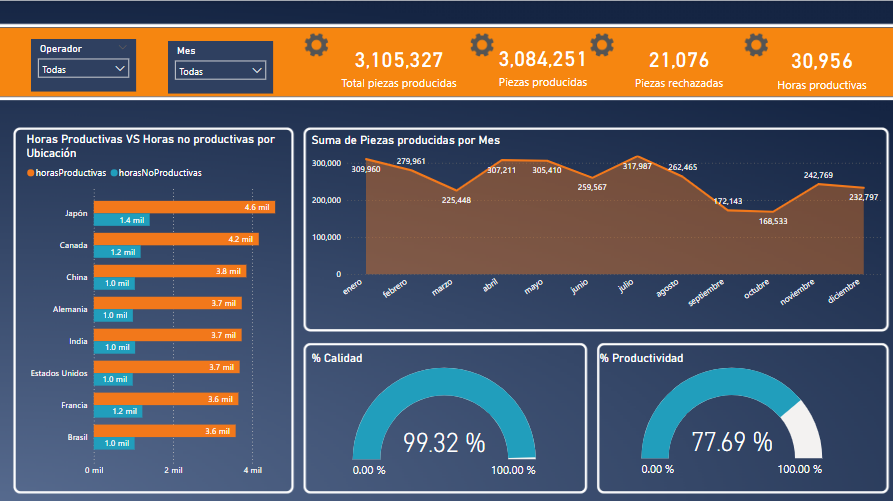

This screenshot's page, from the dashboard's own definition file:
{"tool":"powerbi","page":{"name":"Página 1","canvas":[1280,720],"ordinal":0},"visuals":[{"type":"card","fields":{"Values":["Producción.totalPiezasBuenasProducidas"]},"box":[687.2,26.3,180,132.7],"z":0},{"type":"card","fields":{"Values":["Producción.totalPiezasRechazadas"]},"box":[831.7,27.6,279.9,132.7],"z":1000},{"type":"card","fields":{"Values":["Producción.totalPiezasProducidas"]},"box":[432.3,27.6,279.9,132.7],"z":2000},{"type":"clusteredBarChart","title":"Horas Productivas VS Horas no productivas por Ubicación","fields":{"Category":["Producción.Ubicación"],"Y":["Producción.horasProductivas","Producción.horasNoProductivas"]},"box":[35.8,188.9,377.8,501.6],"z":3000},{"type":"card","fields":{"Values":["Producción.horasProductivas"]},"box":[1083.9,27.6,182.6,136.6],"z":4000},{"type":"areaChart","fields":{"Category":["Producción.Fecha inicio.Variación.Jerarquía de fechas.Mes"],"Y":["Sum(Producción.Piezas producidas)"]},"box":[442.8,189.2,823.8,270.7],"z":5000},{"type":"gauge","fields":{"Y":["Producción.% Calidad"]},"box":[442.8,500.6,388.9,190.5],"z":6000},{"type":"gauge","fields":{"Y":["Producción.% Productividad"]},"box":[853.3,501.6,387.6,188.9],"z":7000},{"type":"slicer","fields":{"Values":["Producción.Operador"]},"box":[47.3,55.2,149.8,74.9],"z":8000},{"type":"slicer","fields":{"Values":["Producción.Fecha inicio.Variación.Jerarquía de fechas.Mes"]},"box":[243.1,57.8,149.8,74.9],"z":9000}]}

Visuals, with their boxes in screenshot pixels (x1, y1, x2, y2), scaled from the page's 1280x720 canvas onto the 893x501 screenshot:
card - Producción.totalPiezasBuenasProducidas: region(479, 18, 605, 111)
card - Producción.totalPiezasRechazadas: region(580, 19, 776, 112)
card - Producción.totalPiezasProducidas: region(302, 19, 497, 112)
"Horas Productivas VS Horas no productivas por Ubicación" clusteredBarChart: region(25, 131, 289, 480)
card - Producción.horasProductivas: region(756, 19, 884, 114)
areaChart - Producción.Fecha inicio.Variación.Jerarquía de fechas.Mes x Sum(Producción.Piezas producidas): region(309, 132, 884, 320)
gauge - Producción.% Calidad: region(309, 348, 580, 481)
gauge - Producción.% Productividad: region(595, 349, 866, 480)
slicer - Producción.Operador: region(33, 38, 138, 91)
slicer - Producción.Fecha inicio.Variación.Jerarquía de fechas.Mes: region(170, 40, 274, 92)
